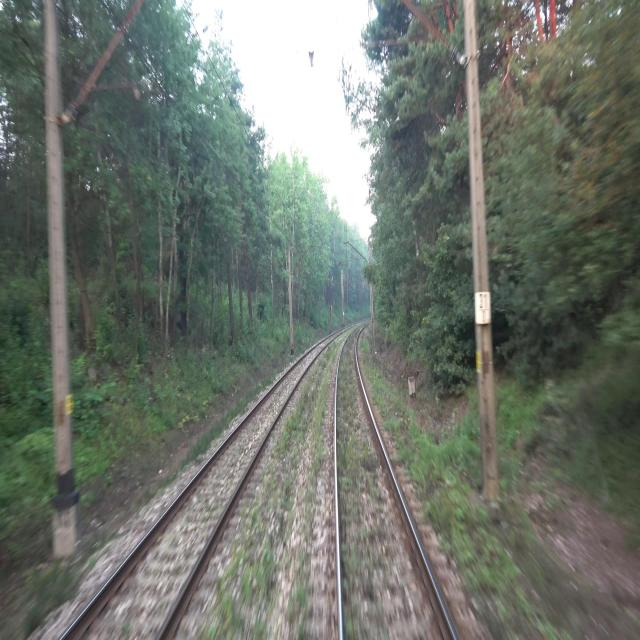rail-track: (64, 341, 327, 639), (337, 329, 455, 639)
